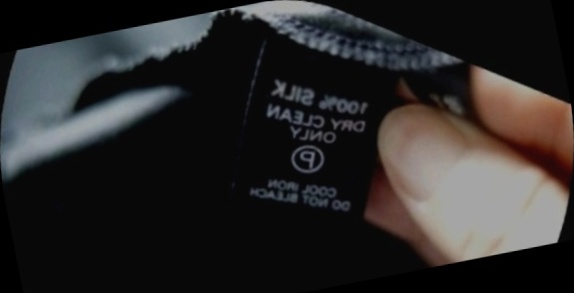dry_clean_any_solvent_except_trichloroethylene: (270, 122, 344, 194)
